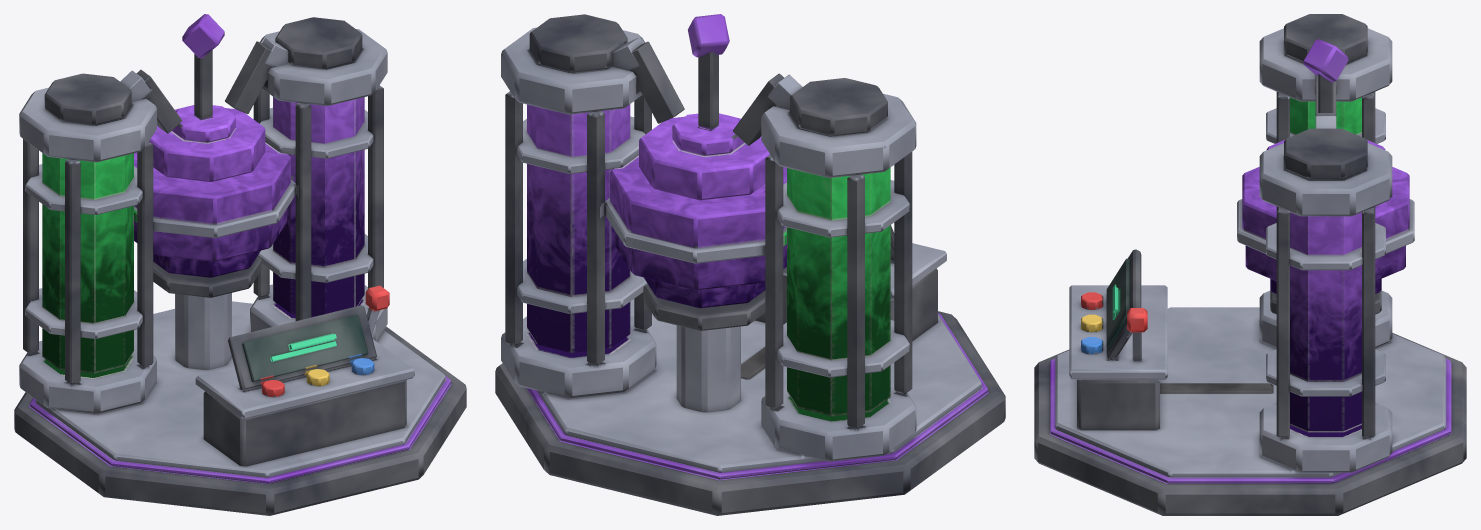
File: FusionMachine_Rig.fbx
3 views of the same model, side by side, from view 1: azimuth 30°, elevation 25°; view 2: azimuth 150°, elevation 25°; view 3: azimuth 270°, elevation 25° (orthographic). The views are drawn at different scales.
Visible parts, largest first — view 1: Tanks, Machine, Console; view 2: Tanks, Machine, Console; view 3: Machine, Tanks, Console.
Boxes of the visible parts, box(x1,y1,x2,y2) form: Tanks: box(19, 17, 387, 413); Machine: box(14, 14, 466, 515); Console: box(195, 285, 414, 466); Tanks: box(501, 14, 916, 461); Machine: box(495, 14, 1005, 515); Console: box(741, 225, 946, 379); Machine: box(1034, 39, 1466, 515); Tanks: box(1259, 14, 1392, 472); Console: box(1069, 249, 1272, 430).
Size of the model in its own units: 6.13 by 6 by 6.13.
1 material, 1 textured.
